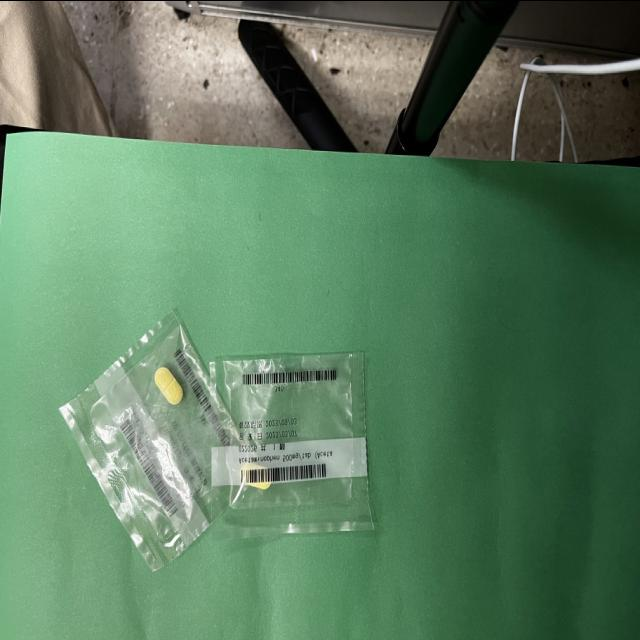Other Objects: (61, 312, 374, 568)
